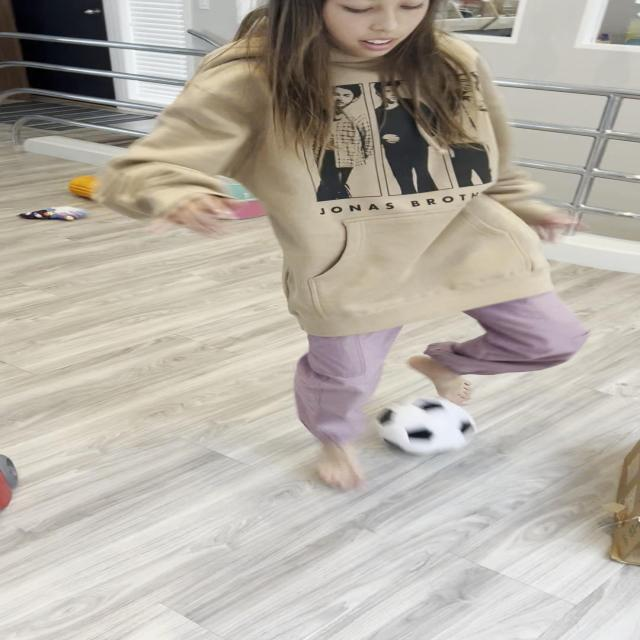Soccer Ball: (372, 397, 478, 456)
